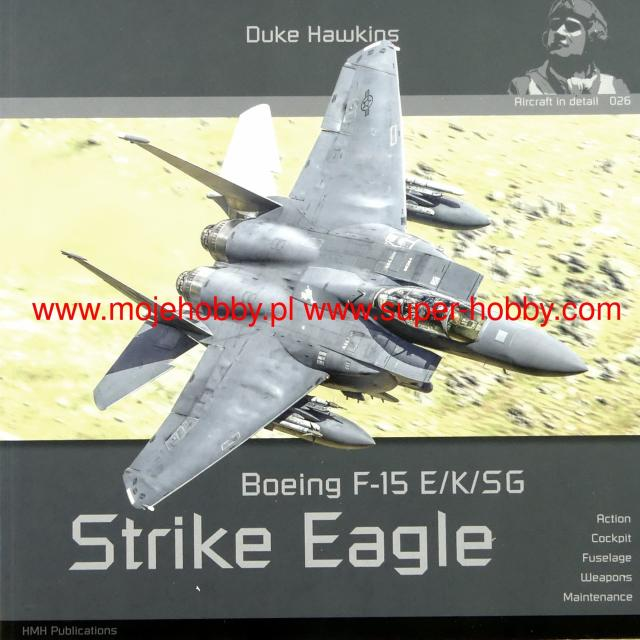F15: (18, 28, 624, 516)
